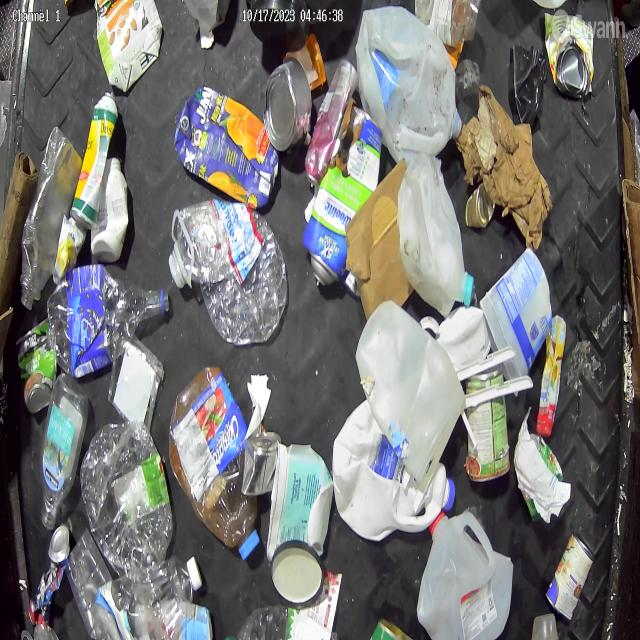can: (309, 105, 383, 288), (304, 59, 356, 184), (466, 366, 510, 484), (264, 61, 312, 156), (545, 532, 595, 622), (28, 525, 71, 629), (545, 13, 592, 101), (18, 321, 57, 414), (240, 429, 282, 496), (465, 184, 496, 229)
milk_jug: (332, 396, 457, 543), (357, 3, 460, 158), (419, 509, 514, 639), (396, 154, 474, 310)
non_white_jug: (173, 85, 280, 209)
plastic_bottle: (167, 363, 262, 556), (169, 203, 289, 344), (80, 417, 174, 579), (49, 266, 170, 373), (93, 552, 203, 640), (40, 374, 88, 528)
